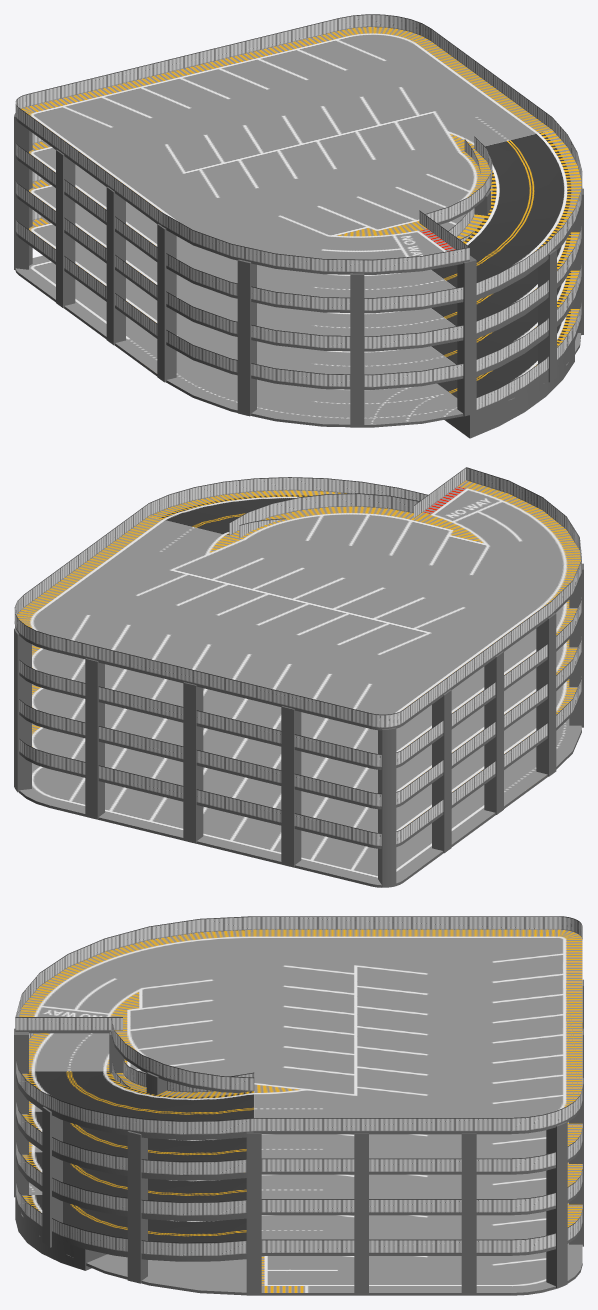
Rendered from Superparking.fbx.
The picture shows the model from 3 angles, top to bottom: view 1: azimuth 30°, elevation 25°; view 2: azimuth 150°, elevation 25°; view 3: azimuth 270°, elevation 25°; orthographic projection. The views are drawn at different scales.
Parts seen in each view (by area): view 1: Floor T, Floor Fence T, Floor G, Road Sector 45, Floor N4, Floor N3, Floor N2, Floor Fence N4, Floor Fence N3, Floor Fence N2, Shape17, Shape15 (+16 smaller); view 2: Floor T, Floor G, Floor Fence T, Floor N3, Floor N4, Floor N2, Floor Fence N3, Floor Fence N4, Floor Fence N2, Road Sector Fence 45, Road Sector 45, Shape5 (+9 smaller); view 3: Floor T, Floor G, Floor Fence T, Floor N4, Road Sector 45, Floor N3, Floor N2, Road Sector 23, Road Sector 34, Road Sector 12, Floor Fence N2, Floor Fence N4 (+15 smaller).
Part boxes in pixels (x1=…): Floor T: x1=15, y1=27, x2=551, y2=274; Floor Fence T: x1=15, y1=14, x2=552, y2=272; Floor G: x1=15, y1=255, x2=581, y2=427; Road Sector 45: x1=431, y1=130, x2=582, y2=300; Floor N4: x1=15, y1=141, x2=466, y2=313; Floor N3: x1=15, y1=179, x2=463, y2=351; Floor N2: x1=15, y1=217, x2=463, y2=389; Floor Fence N4: x1=15, y1=133, x2=473, y2=310; Floor Fence N3: x1=15, y1=171, x2=463, y2=348; Floor Fence N2: x1=15, y1=210, x2=463, y2=387; Shape17: x1=237, y1=259, x2=256, y2=416; Shape15: x1=457, y1=255, x2=476, y2=416; Floor T: x1=14, y1=480, x2=581, y2=730; Floor G: x1=19, y1=718, x2=581, y2=887; Floor Fence T: x1=14, y1=467, x2=581, y2=727; Floor N3: x1=19, y1=639, x2=581, y2=809; Floor N4: x1=19, y1=600, x2=581, y2=769; Floor N2: x1=19, y1=679, x2=581, y2=848; Floor Fence N3: x1=19, y1=635, x2=581, y2=806; Floor Fence N4: x1=19, y1=596, x2=581, y2=767; Floor Fence N2: x1=19, y1=675, x2=581, y2=846; Road Sector Fence 45: x1=149, y1=477, x2=427, y2=537; Road Sector 45: x1=149, y1=490, x2=346, y2=535; Shape5: x1=183, y1=682, x2=203, y2=843; Floor T: x1=15, y1=929, x2=582, y2=1134; Floor G: x1=21, y1=1182, x2=582, y2=1295; Floor Fence T: x1=15, y1=916, x2=582, y2=1131; Floor N4: x1=29, y1=1033, x2=582, y2=1174; Road Sector 45: x1=16, y1=1071, x2=254, y2=1139; Floor N3: x1=29, y1=1101, x2=582, y2=1215; Floor N2: x1=29, y1=1142, x2=582, y2=1255; Road Sector 23: x1=16, y1=1152, x2=246, y2=1221; Road Sector 34: x1=16, y1=1111, x2=246, y2=1180; Road Sector 12: x1=15, y1=1195, x2=246, y2=1261; Floor Fence N2: x1=261, y1=1209, x2=582, y2=1253; Floor Fence N4: x1=29, y1=1033, x2=582, y2=1171.
Size of the model in its own units: 40.25 by 18.75 by 47.75.
Materials: 6 (5 with a texture image).
